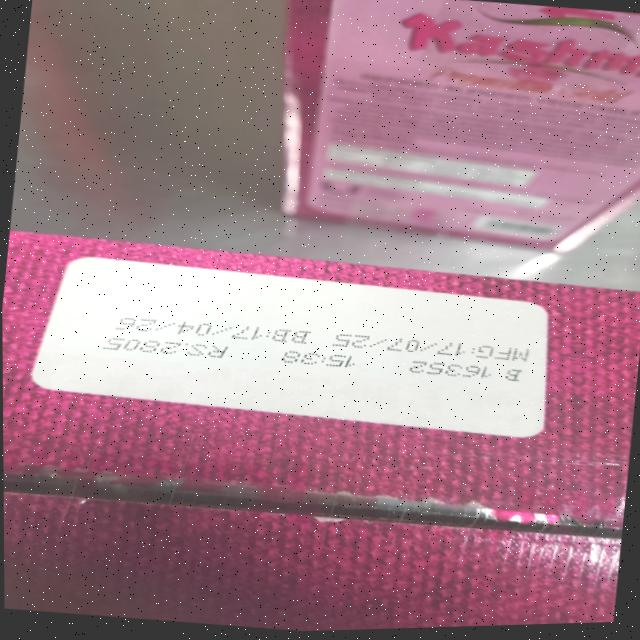BB: (116, 310, 315, 352)
Batch: (402, 356, 523, 386)
MFG: (330, 326, 529, 367)
RS: (102, 332, 231, 363)
TimeStamp: (279, 347, 359, 371)
